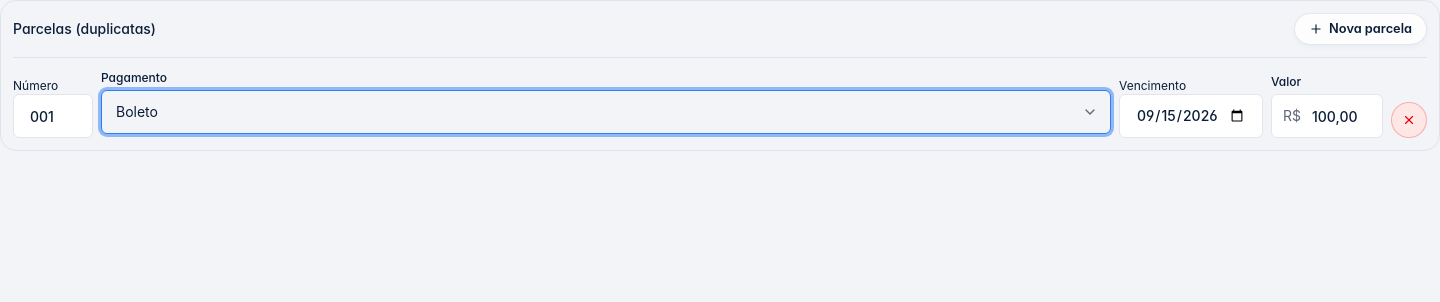
it: inicia em boleto e calcula fatura ao selecionar cartão e conta
The width and height of the screenshot is (1440, 302).
Expected: the text "Boleto" is shown, [116, 103, 158, 120]
Press Arrowdown
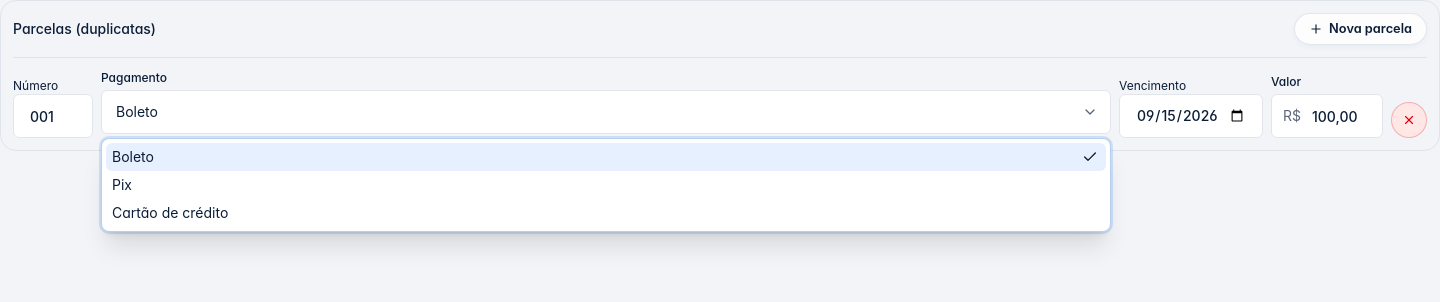
Click the option "Cartão de crédito": point(170, 212) [112, 204, 228, 221]
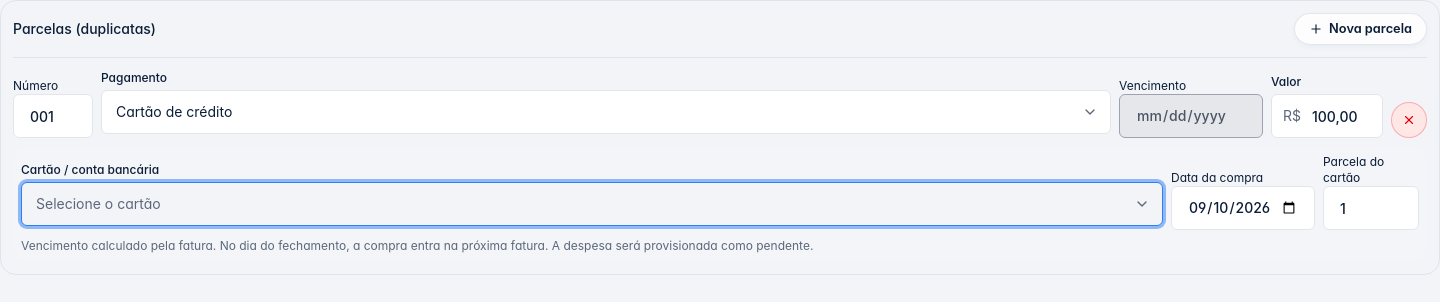
Press Arrowdown
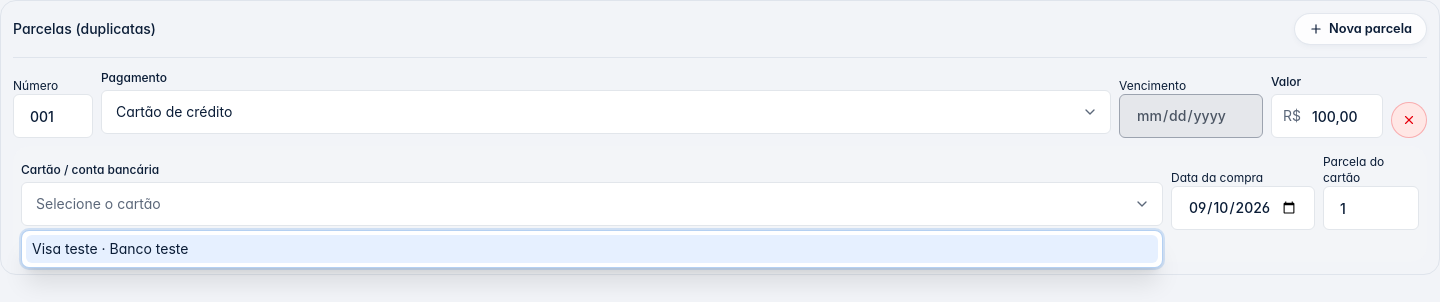
Click the option "Visa teste · Banco teste": point(65, 248) [26, 235, 1158, 263]
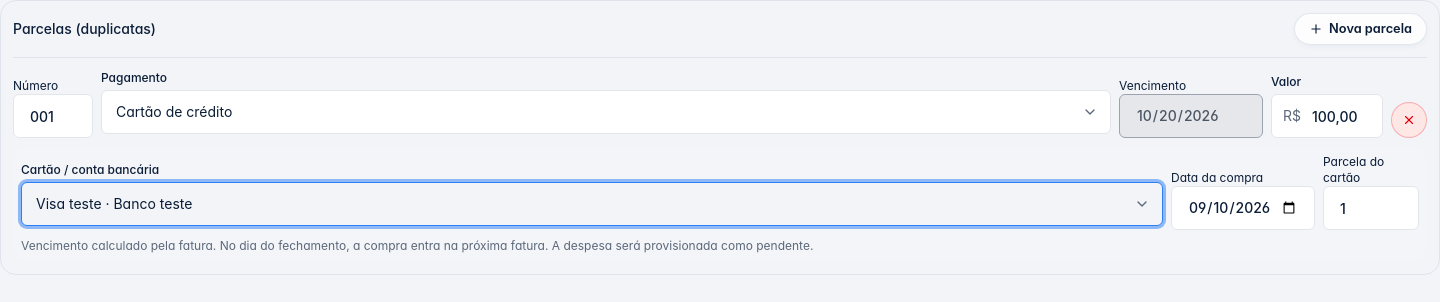
Expected: the date field named "Vencimento da parcela 1" is disabled, [1119, 94, 1263, 138]
Expected: the date field named "Vencimento da parcela 1" holds "2026-10-20", [1119, 94, 1263, 138]
Replace the text in the number field named "Parcela do cartão 1" with "2": point(1371, 208) [1323, 186, 1419, 230]
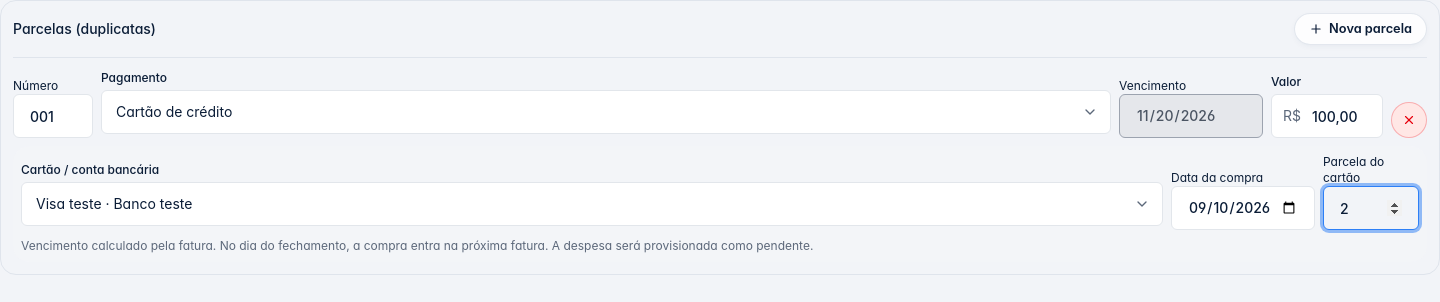
Expected: the date field named "Vencimento da parcela 1" holds "2026-11-20", [1119, 94, 1263, 138]
